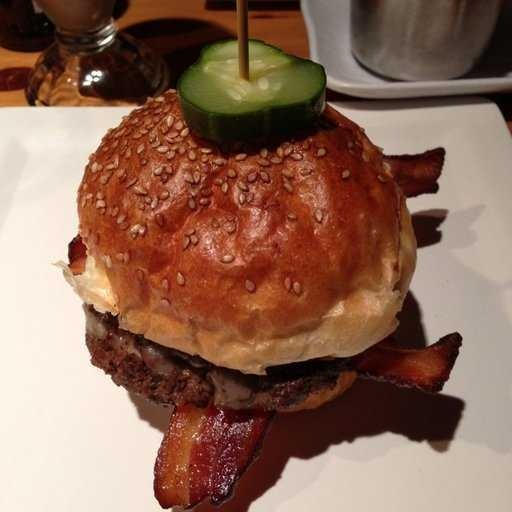hamburger: (49, 55, 433, 429)
